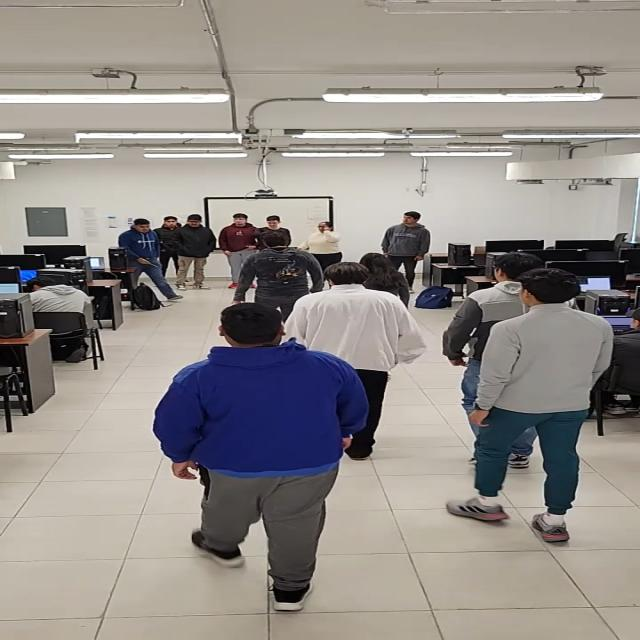Persona: (151, 301, 373, 613), (442, 266, 616, 543), (282, 262, 429, 461), (441, 254, 579, 376), (230, 232, 326, 322), (117, 218, 186, 301), (381, 211, 432, 294), (218, 213, 263, 289), (173, 214, 217, 290), (152, 216, 192, 286), (293, 222, 343, 273), (255, 215, 293, 253)
